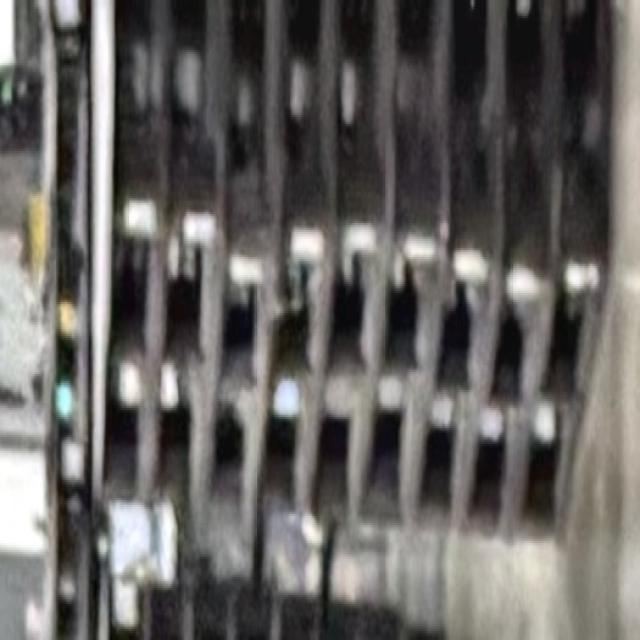igps: (511, 0, 620, 566), (457, 0, 552, 554), (405, 0, 498, 557), (351, 0, 445, 550), (76, 0, 162, 584), (306, 0, 387, 543), (204, 0, 268, 593), (148, 0, 206, 574), (272, 3, 331, 531)
